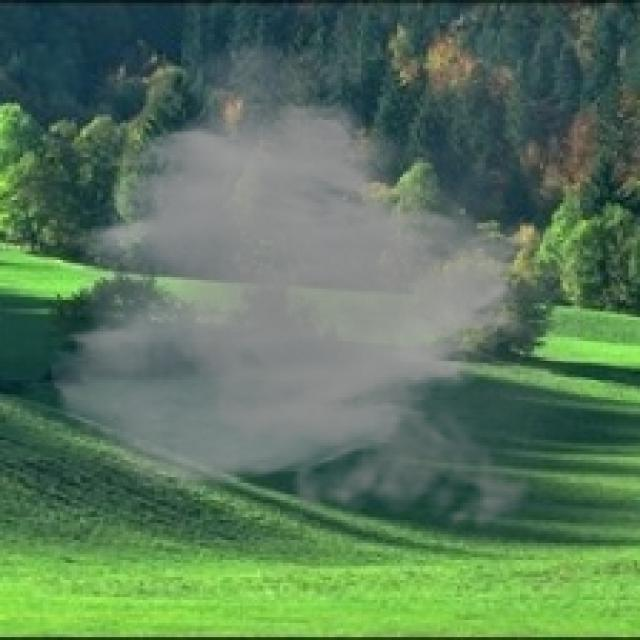smoke: (46, 28, 583, 546)
